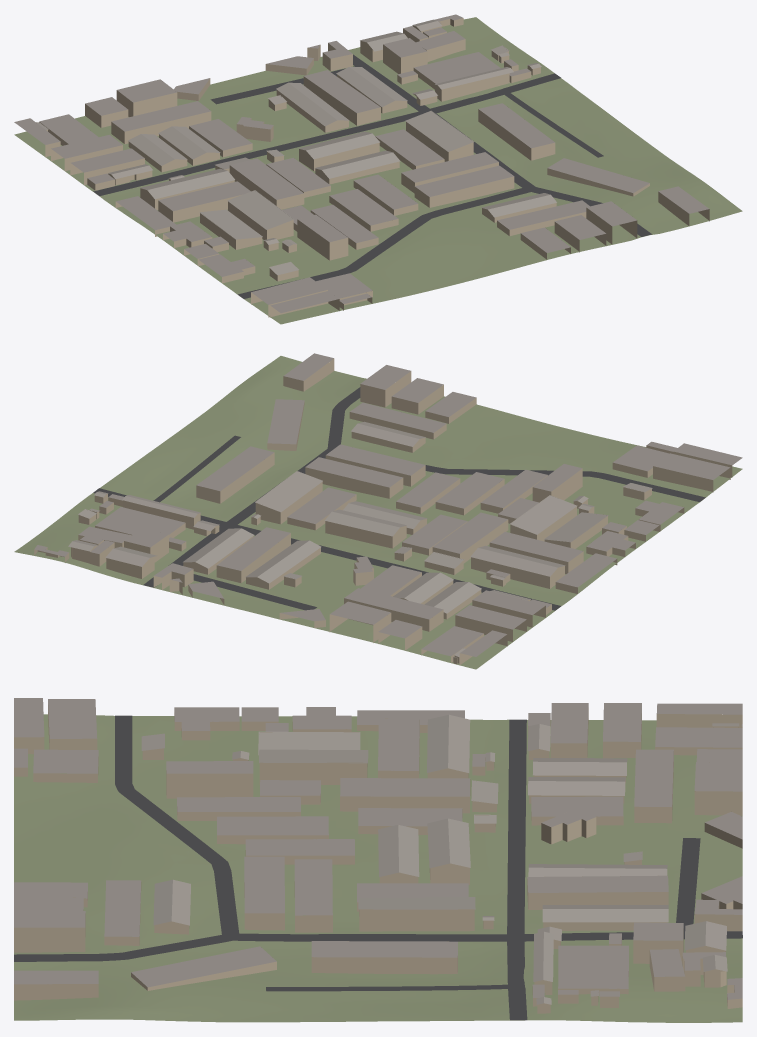
The picture shows the model from 3 angles, top to bottom: view 1: azimuth 30°, elevation 25°; view 2: azimuth 150°, elevation 25°; view 3: azimuth 270°, elevation 25°; orthographic projection. The views are drawn at different scales.
Visible parts, largest first — view 1: ground, roofs, walls, sheetRoofs, road; view 2: ground, roofs, walls, sheetRoofs, road; view 3: ground, roofs, walls, sheetRoofs, road.
Part boxes in pixels (box(x1,y1,x2,y2)): ground: box(14, 17, 742, 324); roofs: box(14, 14, 708, 312); walls: box(36, 18, 709, 317); sheetRoofs: box(37, 19, 556, 275); road: box(93, 54, 651, 298); ground: box(14, 356, 742, 669); roofs: box(34, 353, 742, 657); walls: box(34, 358, 732, 665); sheetRoofs: box(68, 421, 652, 657); road: box(93, 387, 705, 610); ground: box(14, 714, 742, 1022); roofs: box(14, 698, 742, 999); walls: box(14, 705, 742, 1013); sheetRoofs: box(141, 714, 739, 1004); road: box(14, 715, 742, 1020).
Bounding box in the file's own units: 250 × 11.69 × 250.
